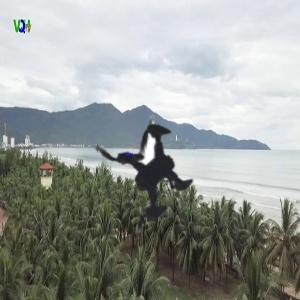drone: (55, 67, 269, 281)
